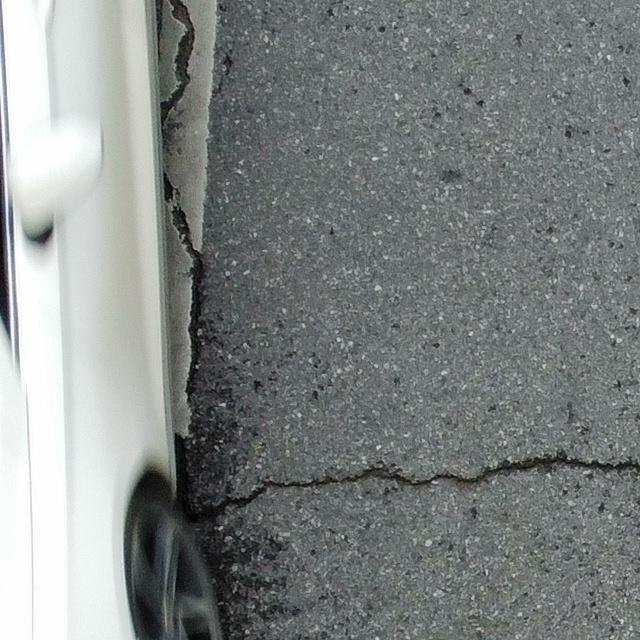LongitudinalCrack: (162, 170, 203, 404), (159, 1, 197, 126)
TransverseCrack: (189, 454, 640, 520)
